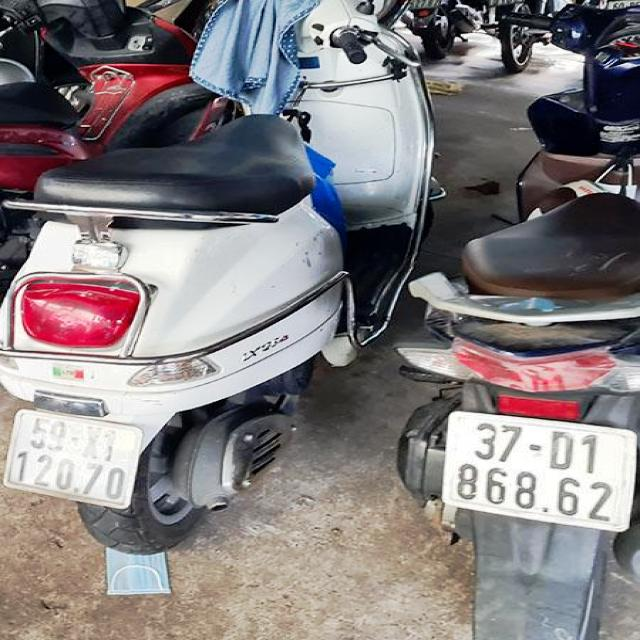license_plate: (441, 411, 640, 533)
